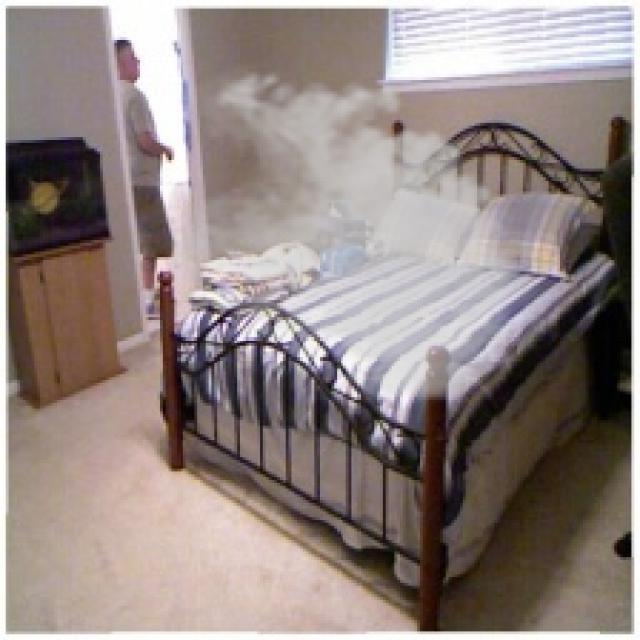Smoke: (171, 60, 543, 409)
